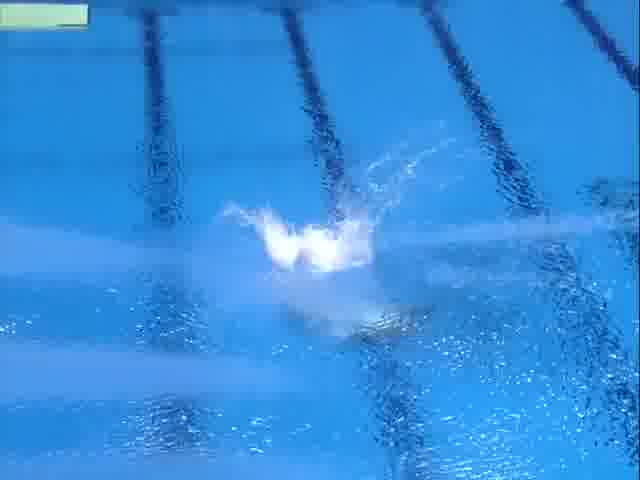core: (299, 220, 340, 261)
periphery: (211, 117, 640, 339)
